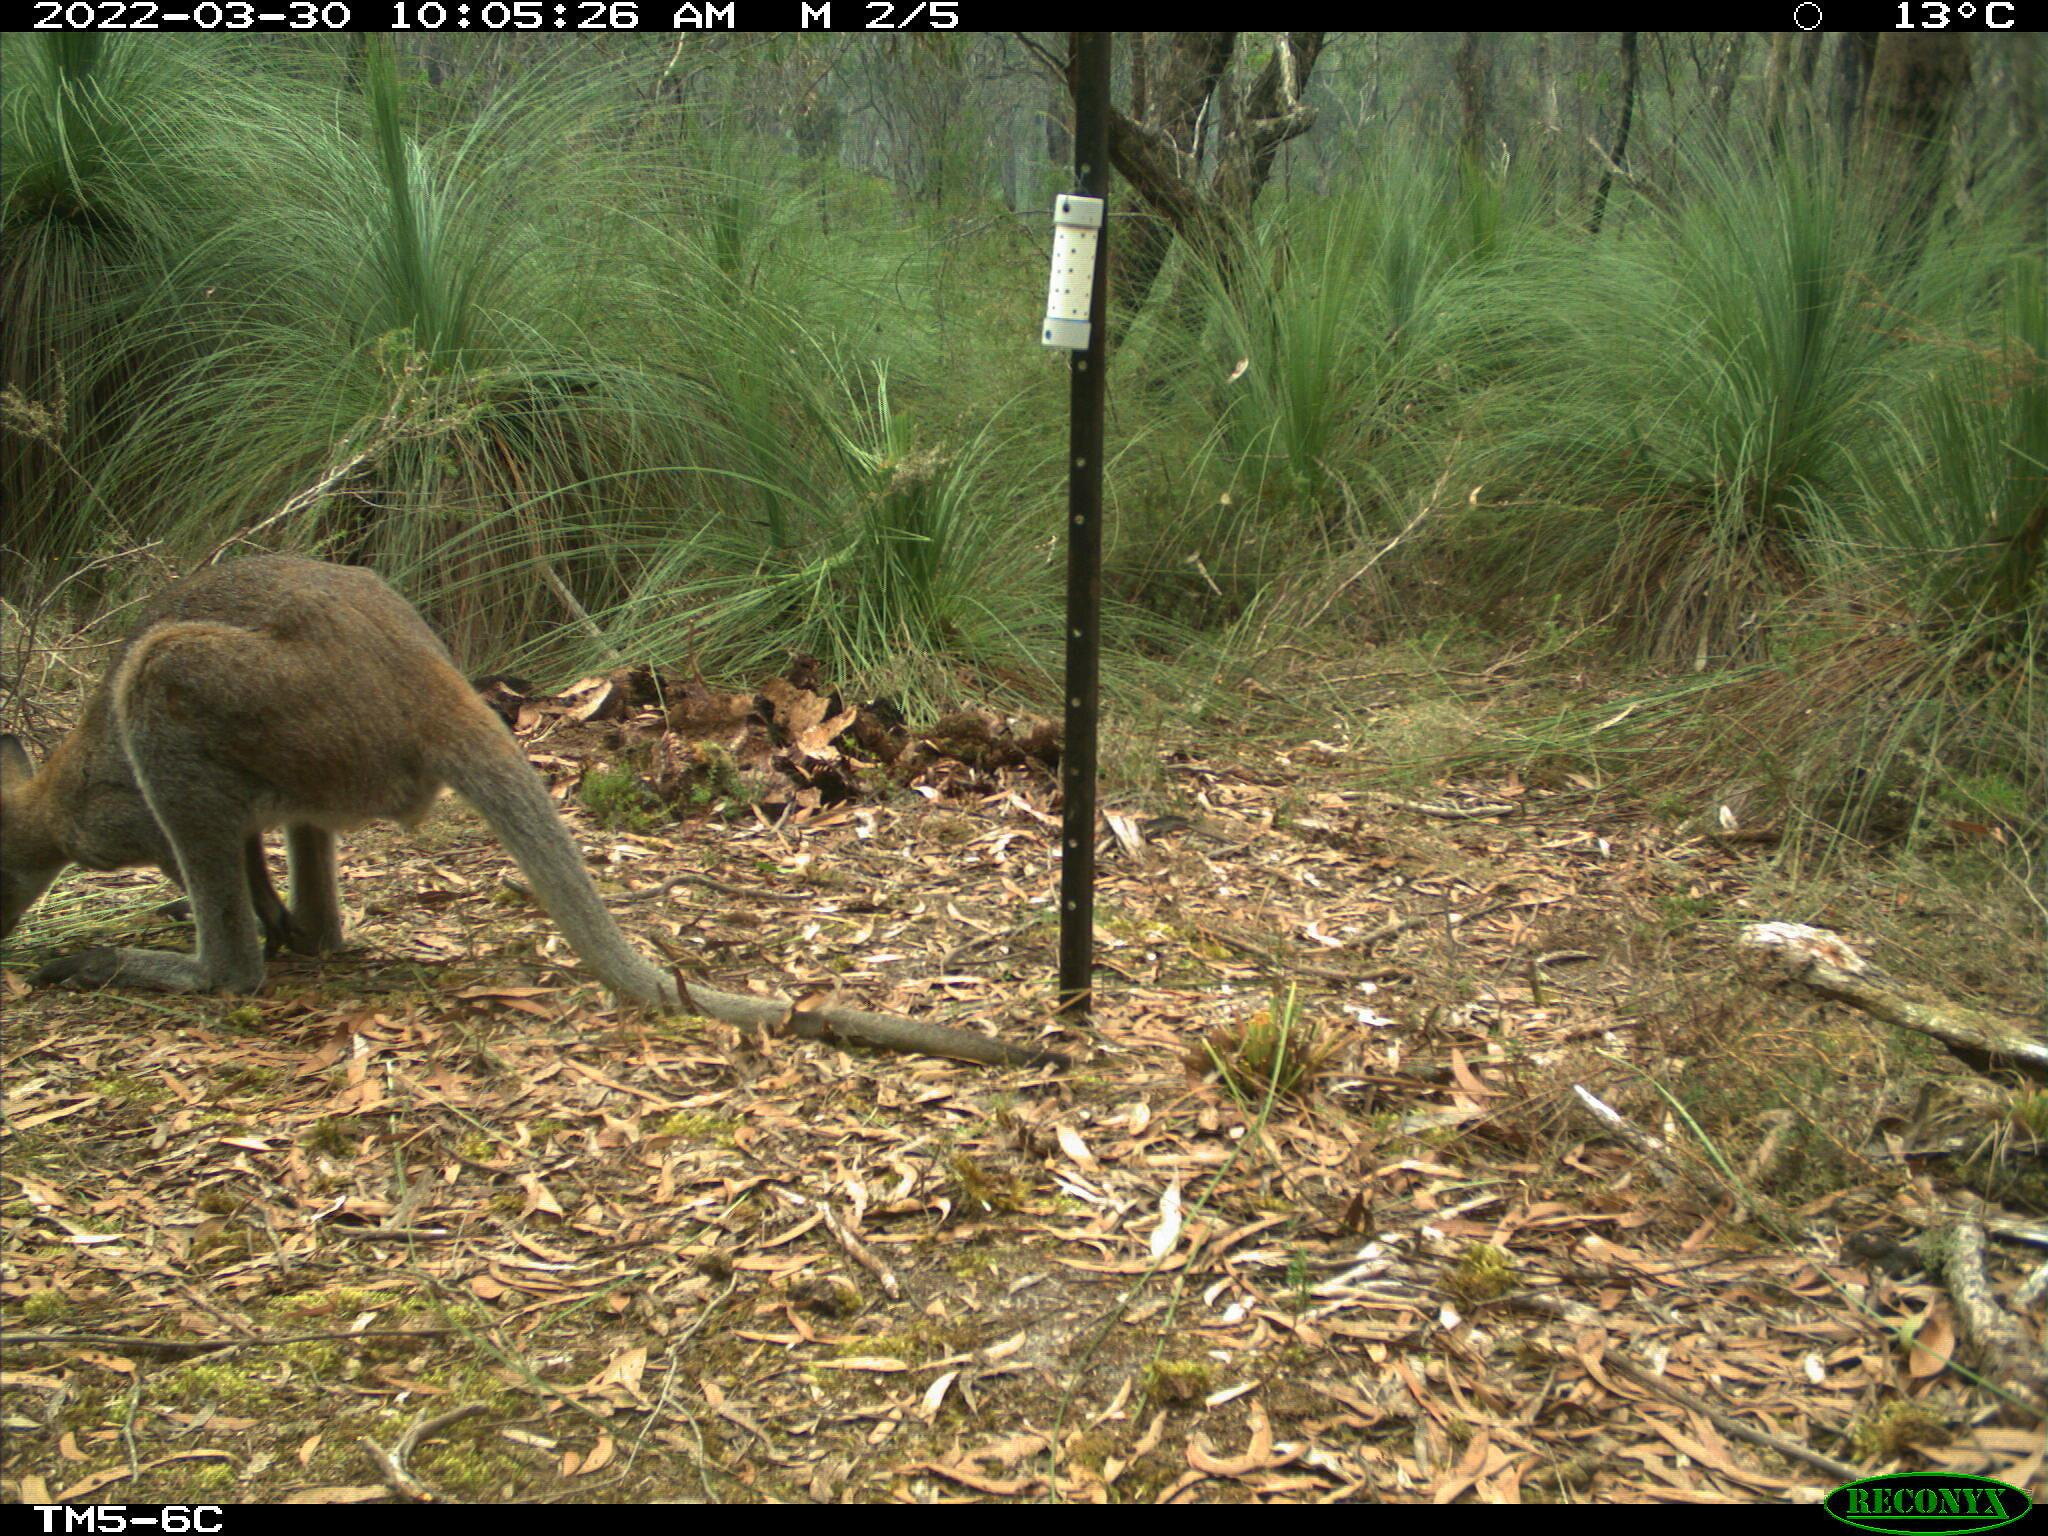Red-necked wallaby: (0, 536, 1097, 1068)
